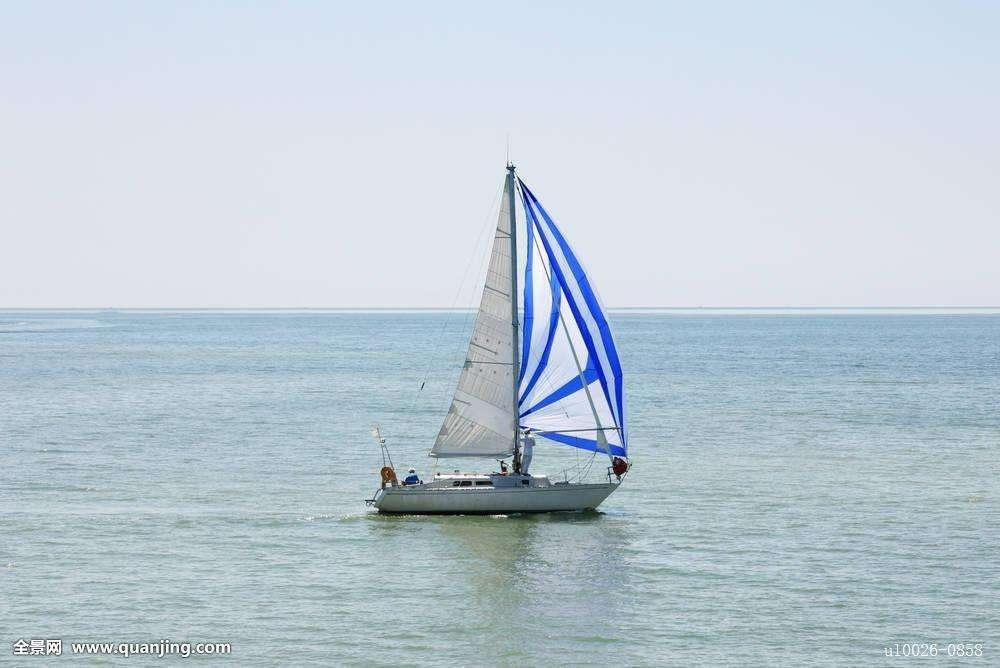fanchuan: (370, 157, 651, 514)
